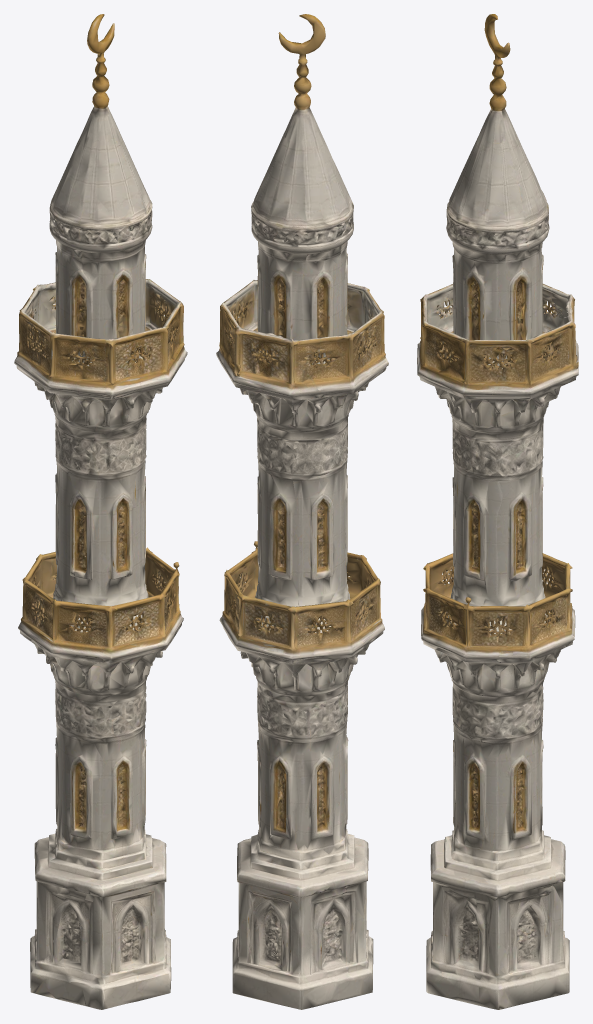
The model's file is minaret.glb.
3 views of the same model, side by side, from view 1: azimuth 30°, elevation 25°; view 2: azimuth 150°, elevation 25°; view 3: azimuth 270°, elevation 25° (orthographic).
Size of the model in its own units: 5.78 by 38 by 5.8.
Materials: 1 (1 with a texture image).
